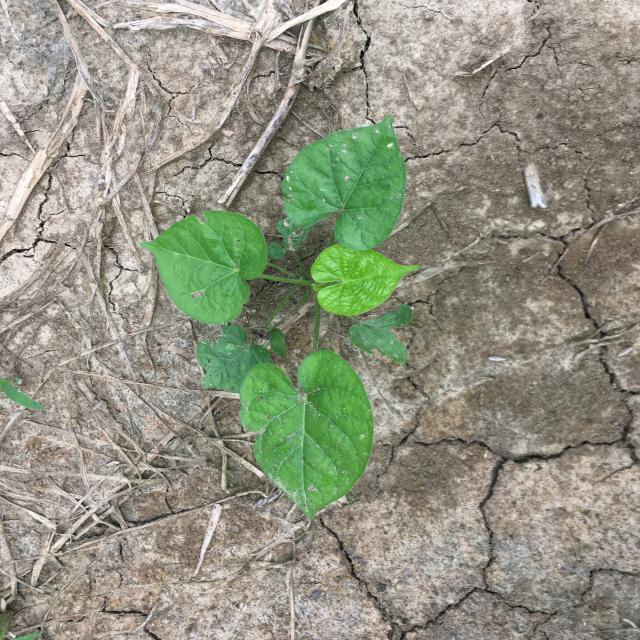MorningGlory: (139, 115, 421, 520)
